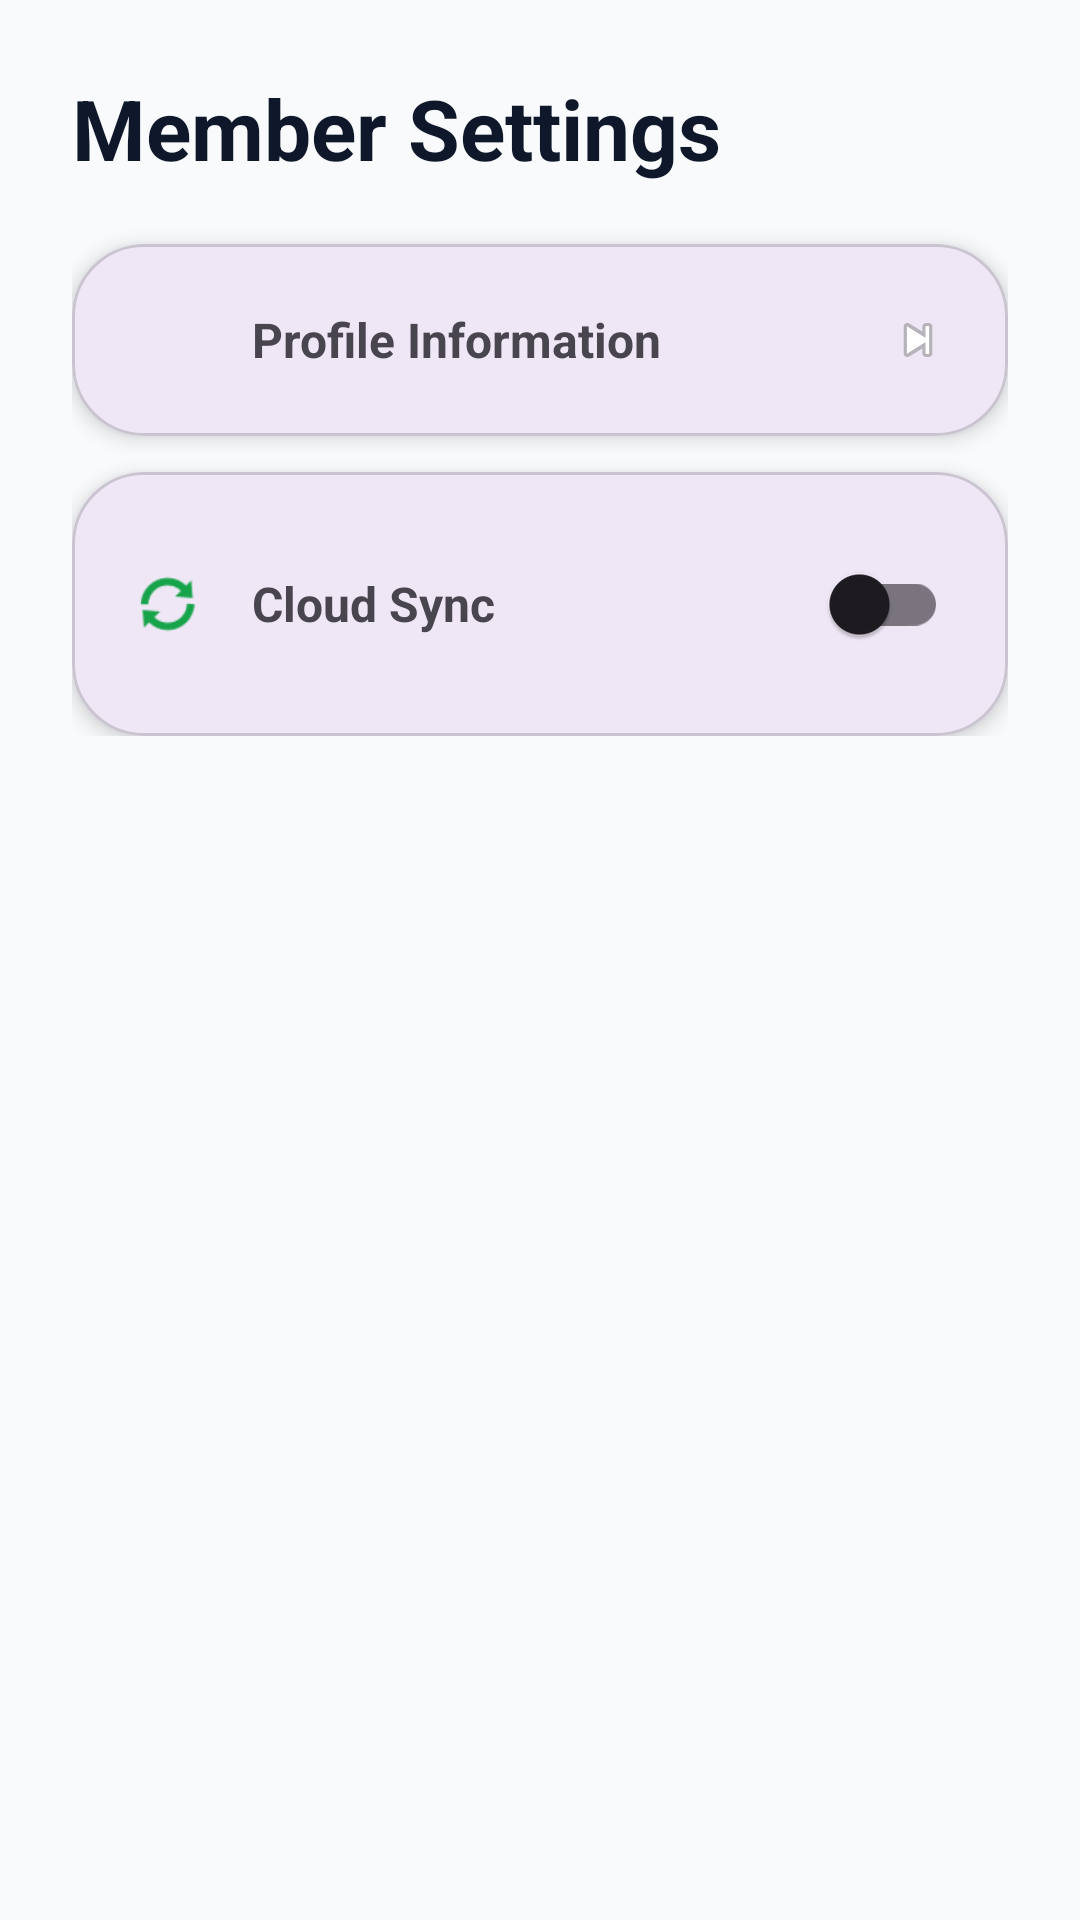

Icons on this 1080px x 1920px Android screen, each with the point to tap as [x,y]:
next: [918,340]
popup sync: [167,604]
